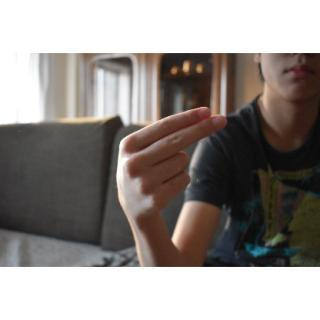AYN: (117, 104, 231, 228)
